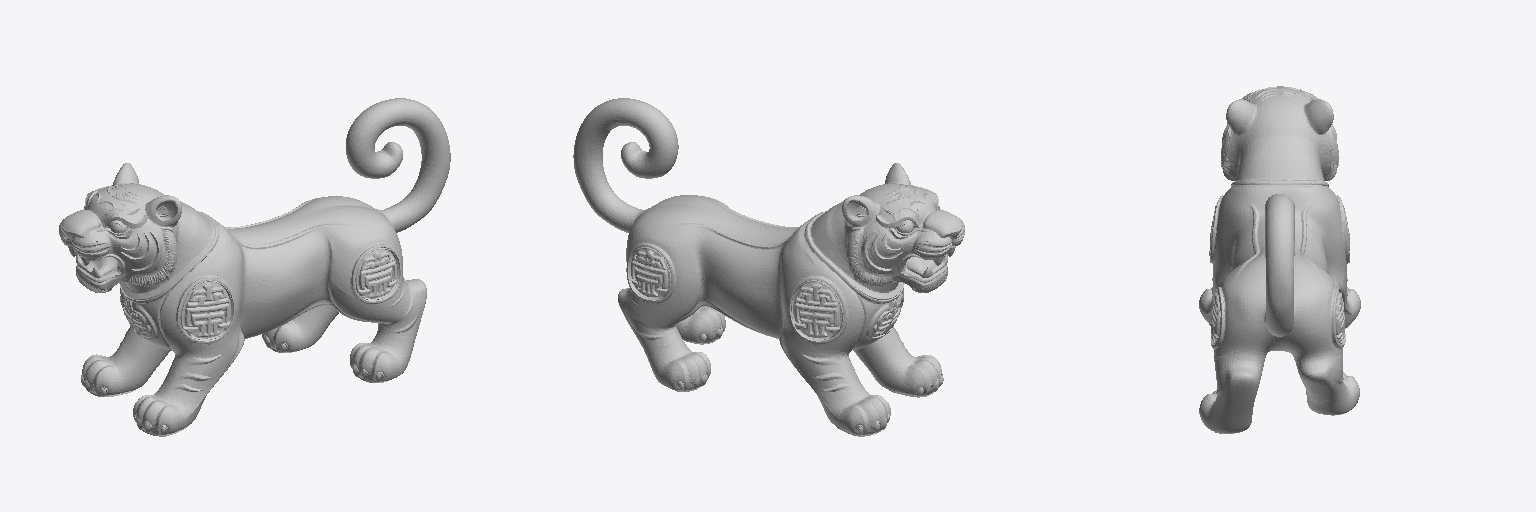
File: pbr_model.obj
3 views of the same model, side by side, from view 1: azimuth 30°, elevation 25°; view 2: azimuth 150°, elevation 25°; view 3: azimuth 270°, elevation 25° (orthographic).
Visible parts, largest first — view 1: node_0; view 2: node_0; view 3: node_0.
Part boxes in pixels (x1,y1,x2,y2): node_0: (59,98,450,436); node_0: (573,98,964,436); node_0: (1199,86,1360,433).
Bounding box in the file's own units: 1.13 × 0.6873 × 0.4131.